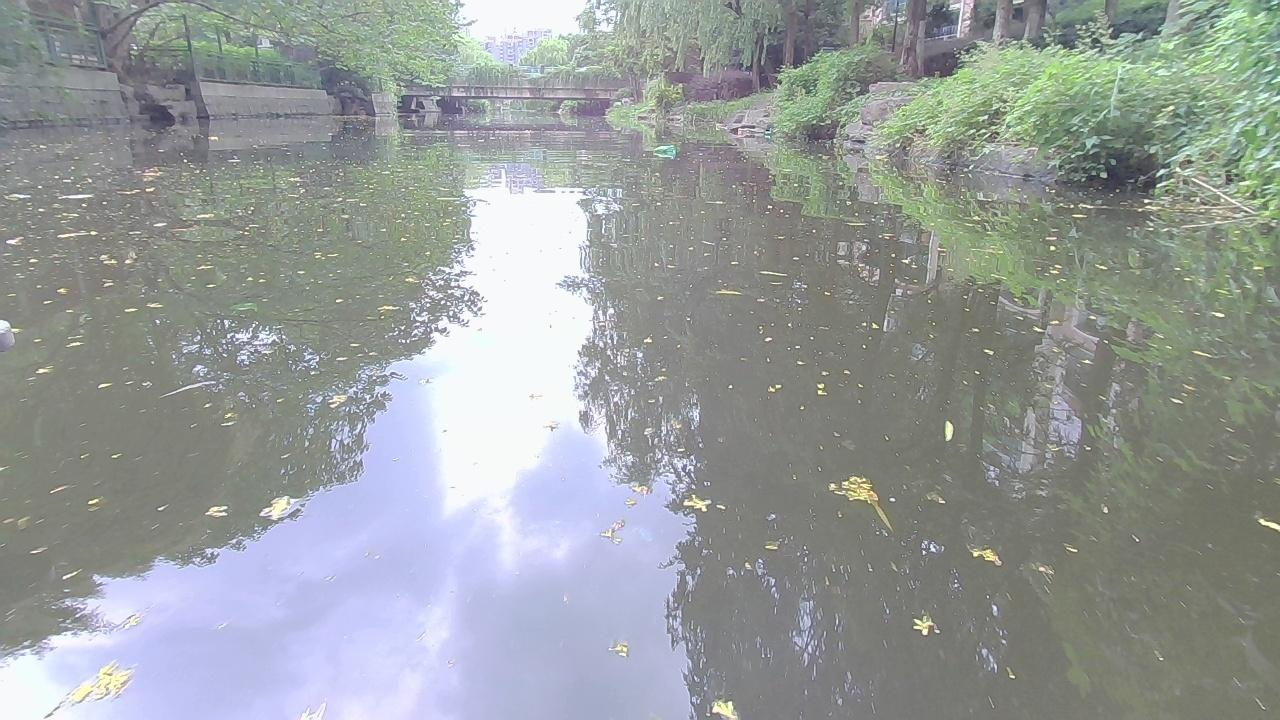bottle: (648, 143, 677, 154)
